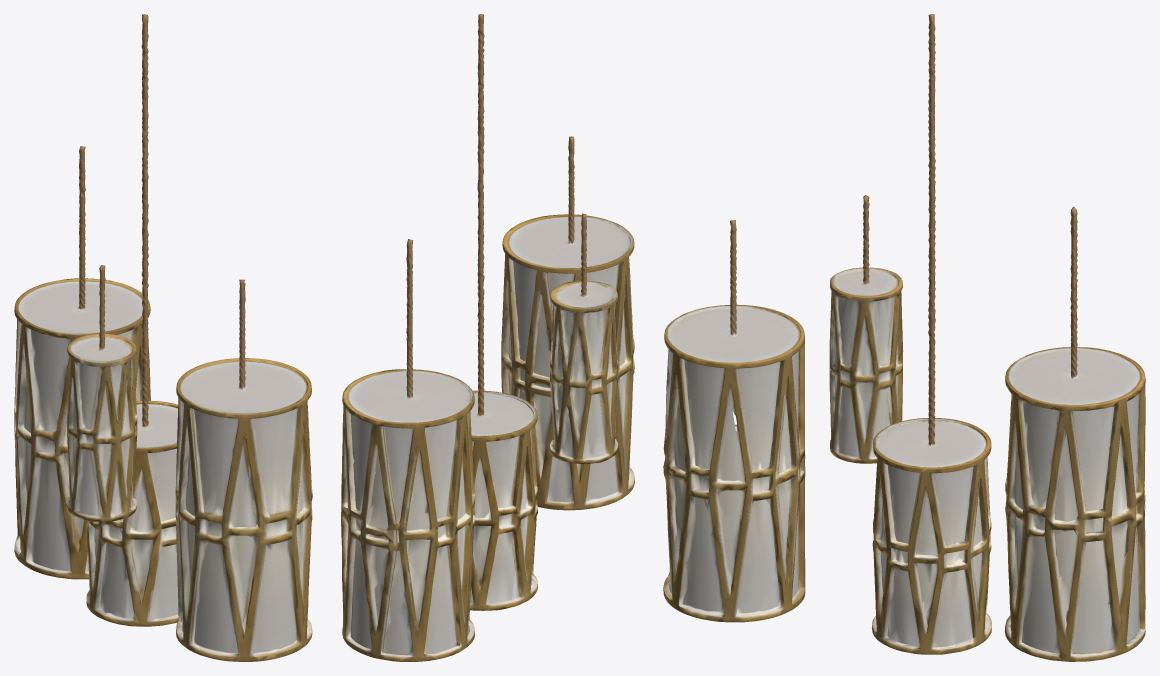
The model's file is decor-pendant-geometric.glb.
The picture shows the model from 3 angles, left to right: view 1: azimuth 30°, elevation 25°; view 2: azimuth 150°, elevation 25°; view 3: azimuth 270°, elevation 25°; orthographic projection. The views are drawn at different scales.
Parts seen in each view (by area): view 1: tripo_node_57fcda4e-f9e9-4997-9c6a-2be35bcd27d4; view 2: tripo_node_57fcda4e-f9e9-4997-9c6a-2be35bcd27d4; view 3: tripo_node_57fcda4e-f9e9-4997-9c6a-2be35bcd27d4.
Part boxes in pixels (x1,y1,x2,y2): tripo_node_57fcda4e-f9e9-4997-9c6a-2be35bcd27d4: (14,14,312,661); tripo_node_57fcda4e-f9e9-4997-9c6a-2be35bcd27d4: (341,14,634,661); tripo_node_57fcda4e-f9e9-4997-9c6a-2be35bcd27d4: (663,14,1145,661).
Size of the model in its own units: 0.1806 by 0.6 by 0.4262.
1 material, 1 textured.
